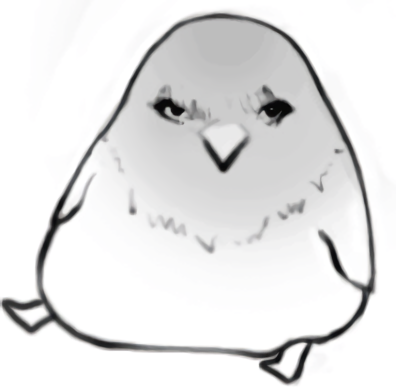dragon: (148, 69, 304, 182)
